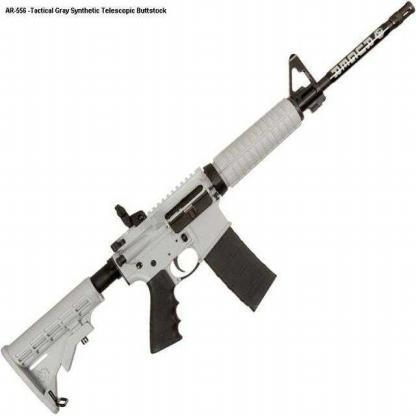Heavy Gun: (5, 0, 416, 411)
